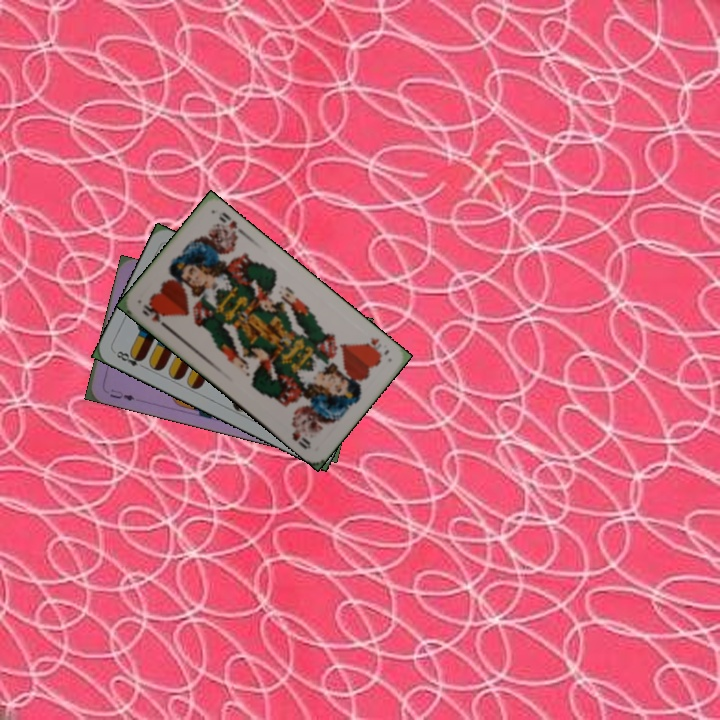E8: (112, 347, 148, 371)
EU: (106, 385, 137, 404)
HO: (138, 300, 171, 332), (360, 333, 392, 360)
